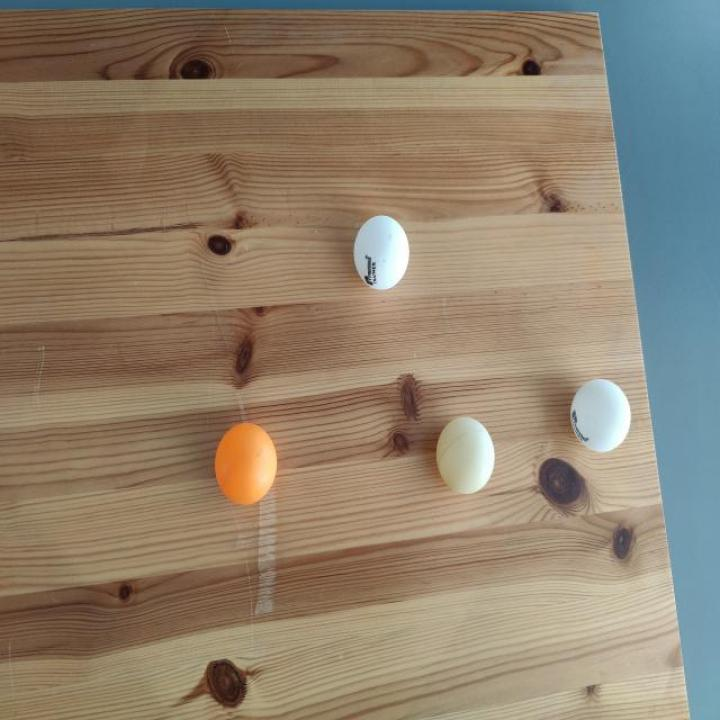orange: (211, 423, 280, 509)
white: (432, 417, 497, 497), (569, 379, 633, 456), (352, 215, 411, 293)
